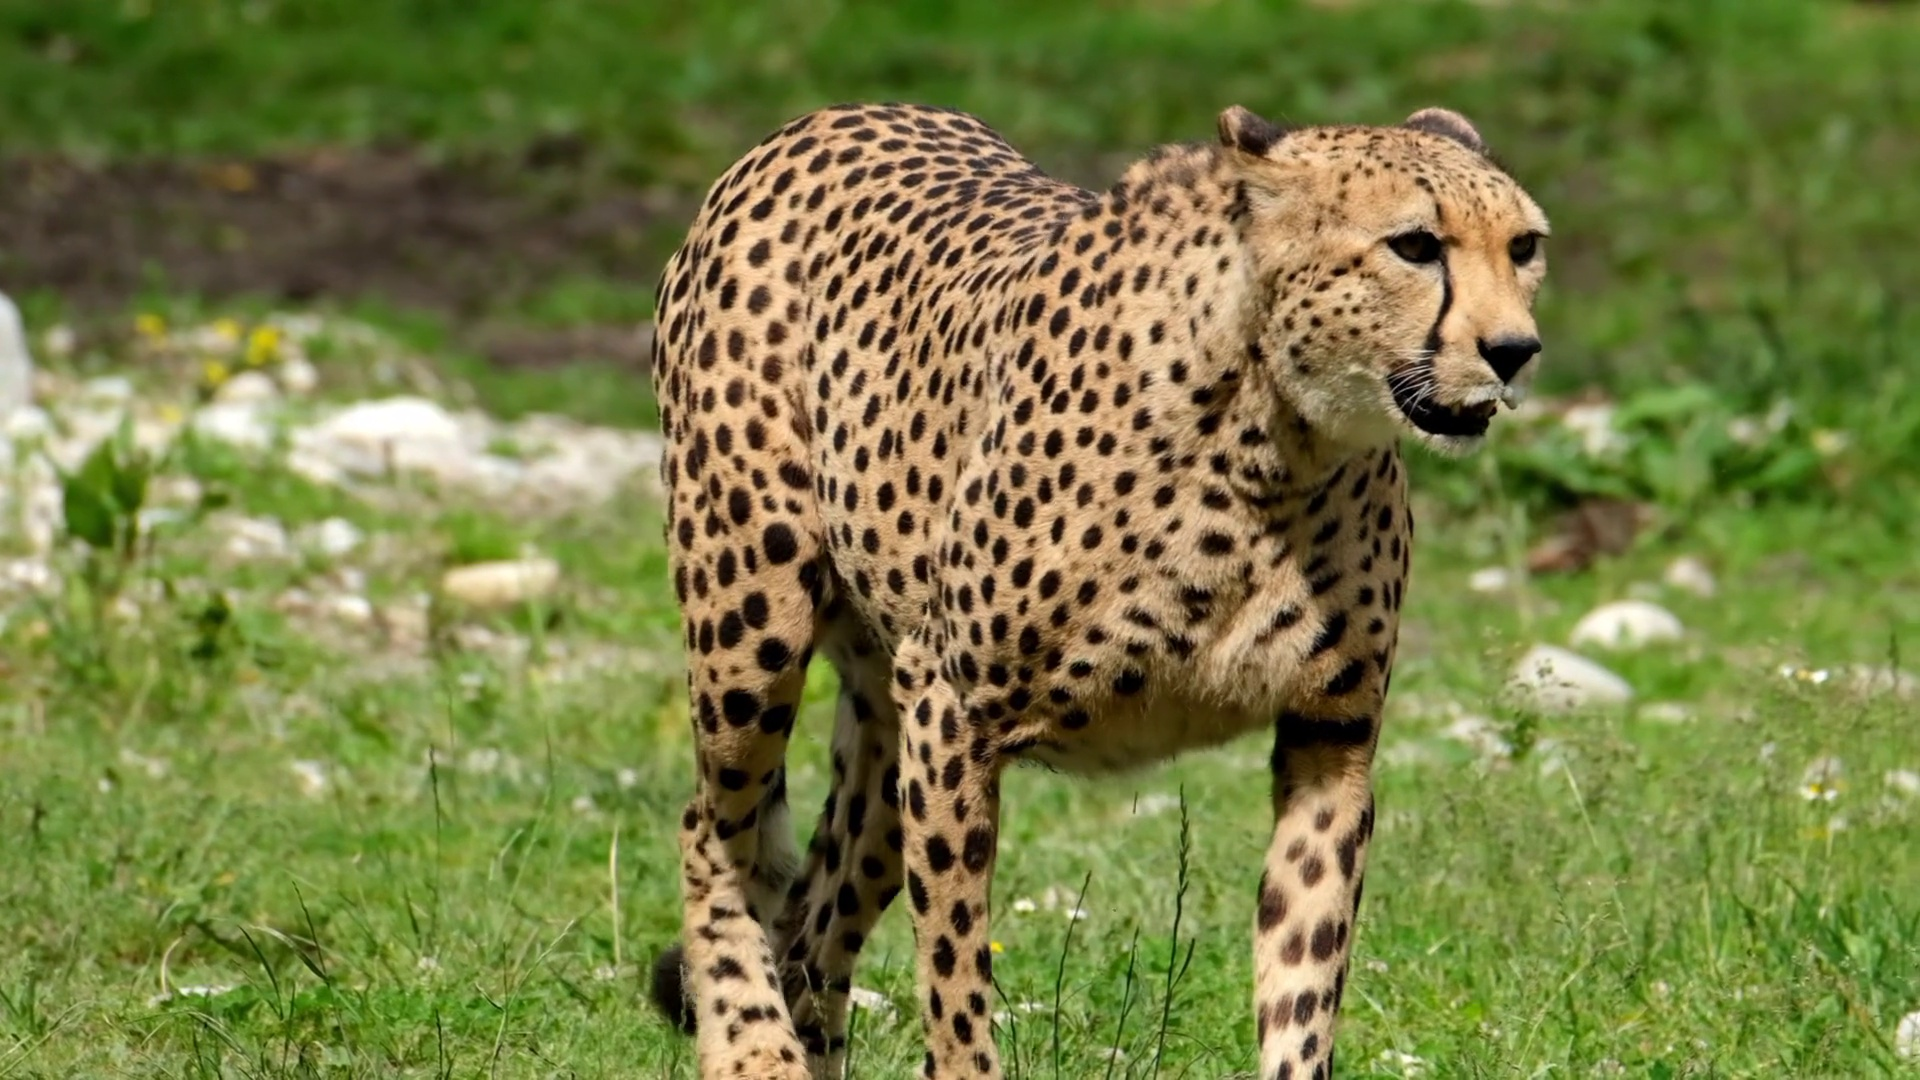Cheetah: (647, 88, 1557, 1080)
